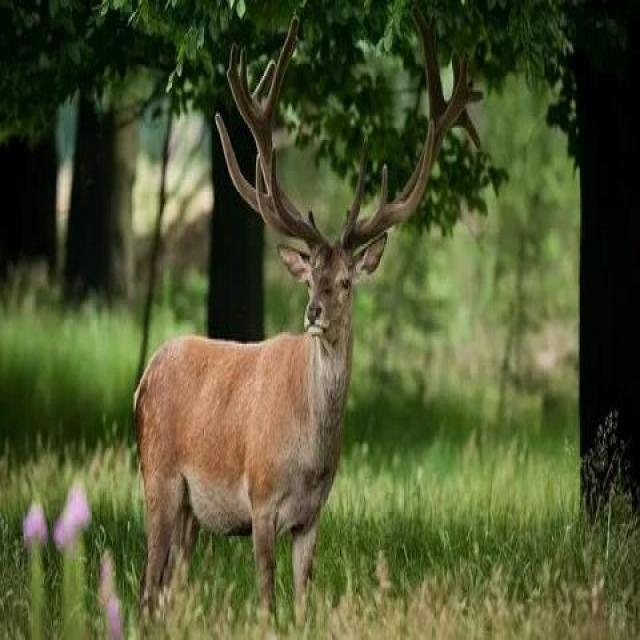deer: (111, 84, 446, 567)
